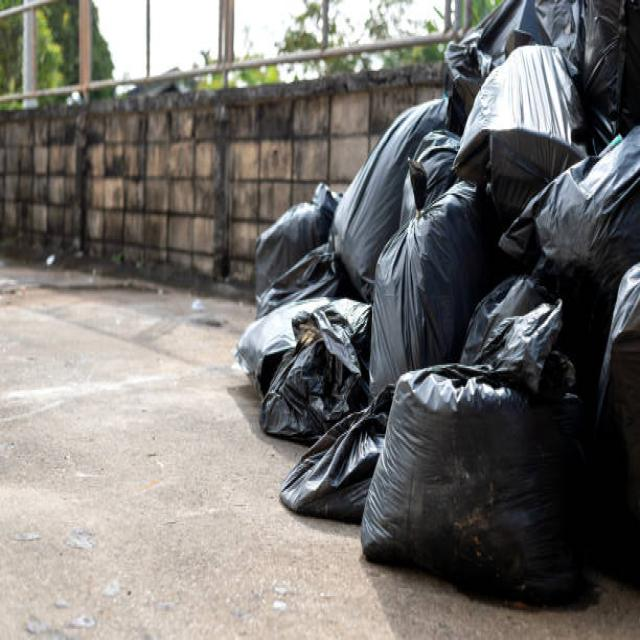garbage: (219, 0, 640, 623)
